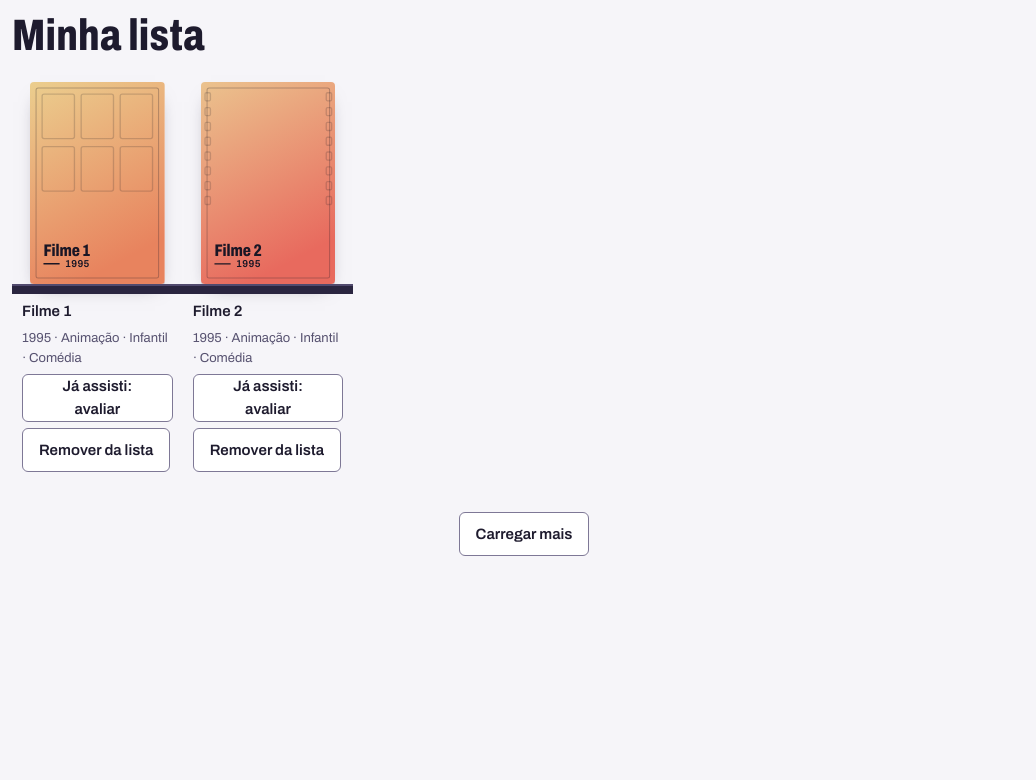
Test: paginação depois de remoções (nenhum filme é pulado) › remover da primeira página e carregar mais mostra todos os filmes restantes, e o botão some no fim
This screenshot has width=1036, height=780.
Expected: the text "Filme 1" is shown, top-left (22, 303), bottom-right (72, 319)
Click the 1st button "Remover da lista": point(96, 450) top-left (22, 428), bottom-right (170, 472)
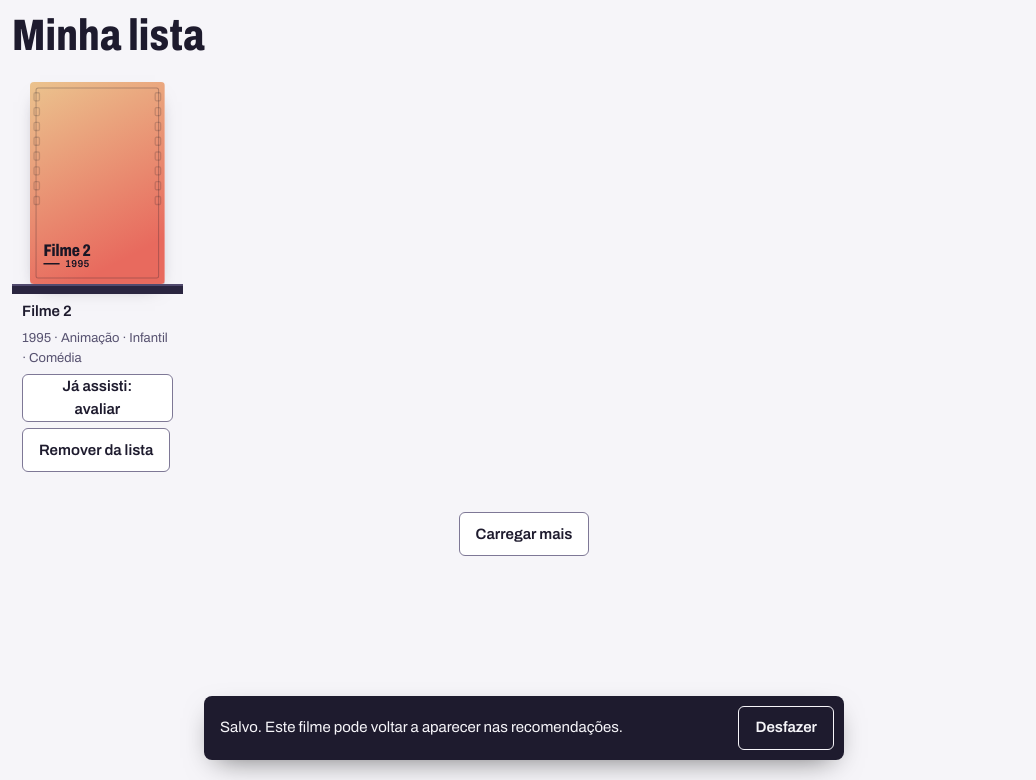
Now the link "Filme 1" is gone
Click the button "Carregar mais": point(524, 534) top-left (459, 512), bottom-right (589, 556)
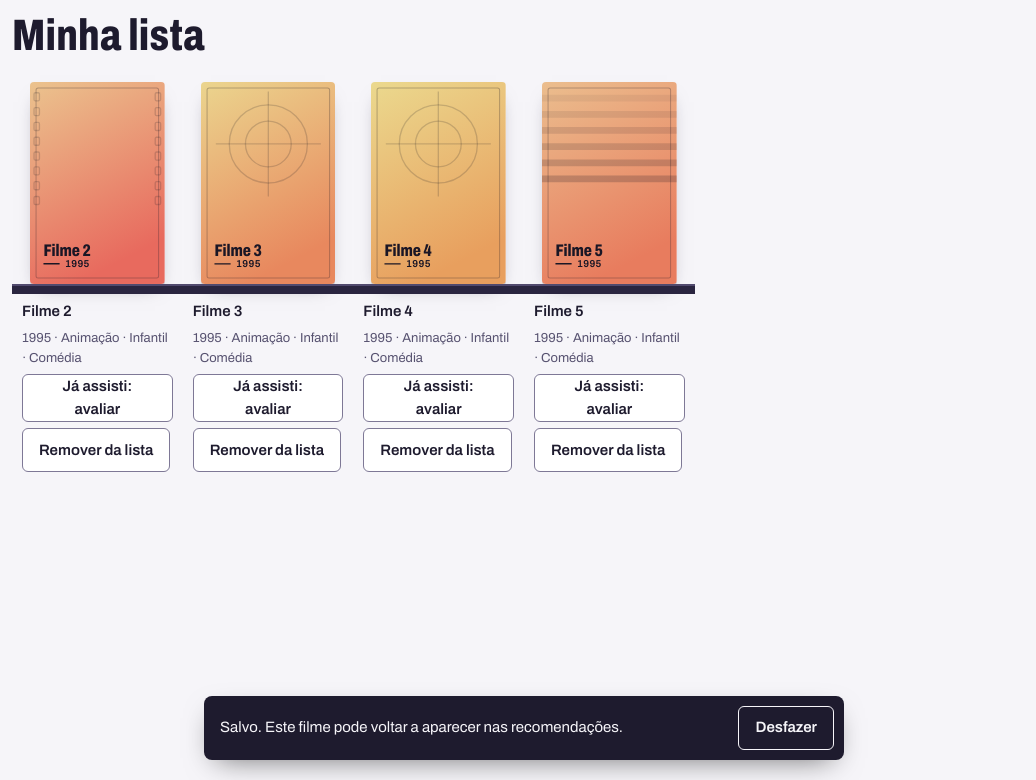
Now the text "Filme 3" is shown, box top-left (193, 303), bottom-right (242, 319)
Now the text "Filme 4" is shown, box top-left (363, 303), bottom-right (413, 319)
Now the text "Filme 5" is shown, box top-left (534, 303), bottom-right (584, 319)
